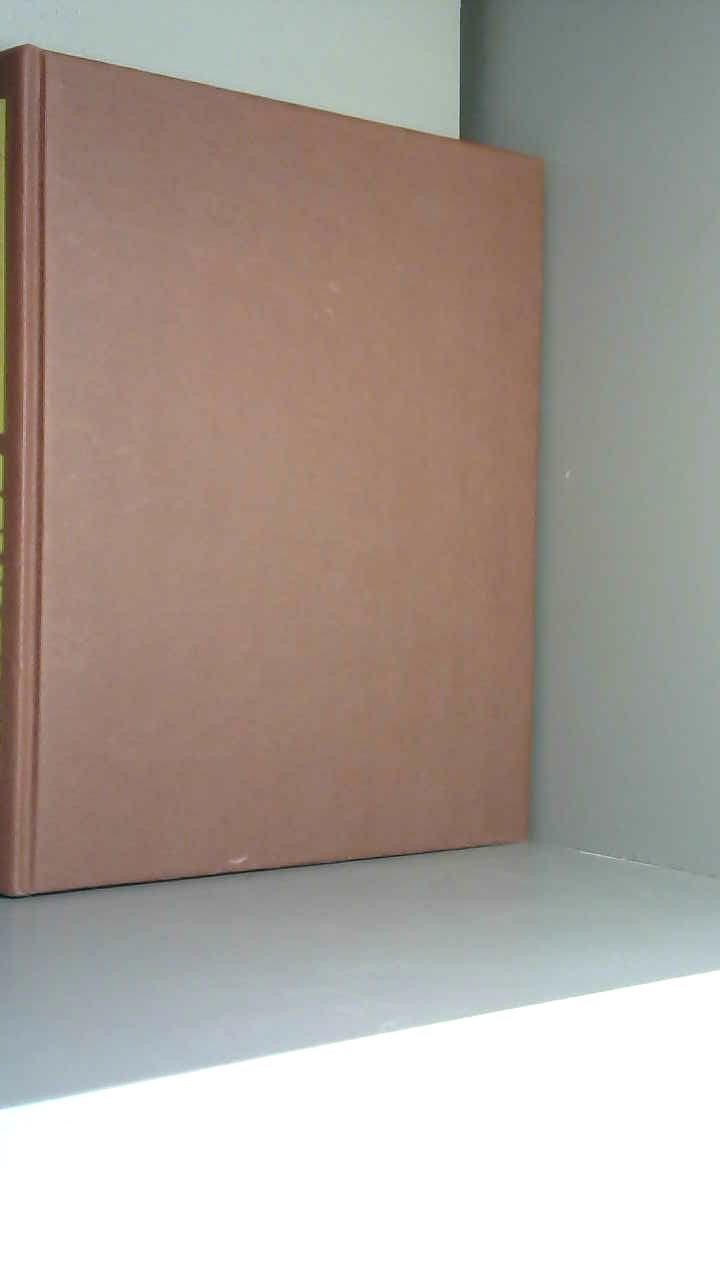book: (0, 25, 576, 917)
